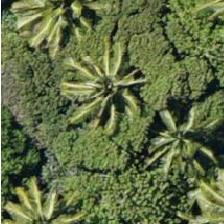Kelapa_Sawit: (60, 37, 150, 127), (126, 98, 216, 188), (0, 163, 88, 224)
